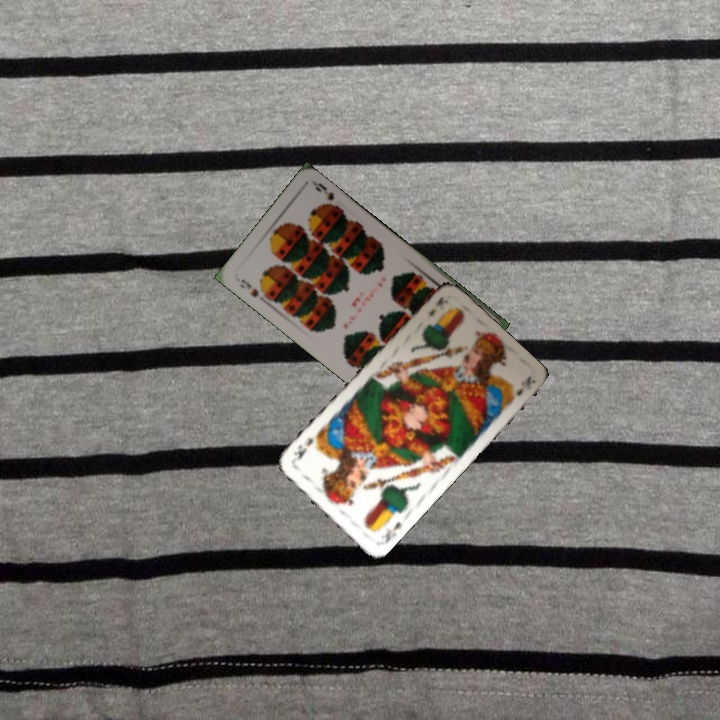EK: (376, 518, 403, 547), (424, 293, 449, 319)
S9: (236, 275, 267, 303)
